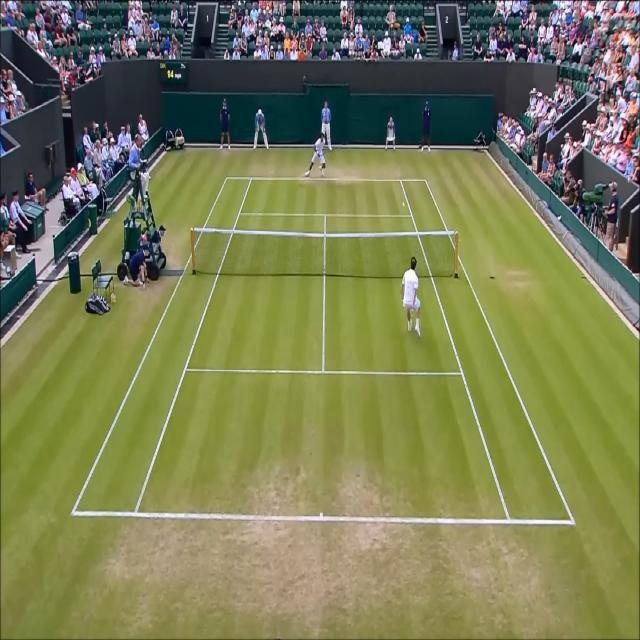court: (70, 177, 576, 526)
net: (189, 227, 462, 274)
player: (400, 256, 422, 338)
